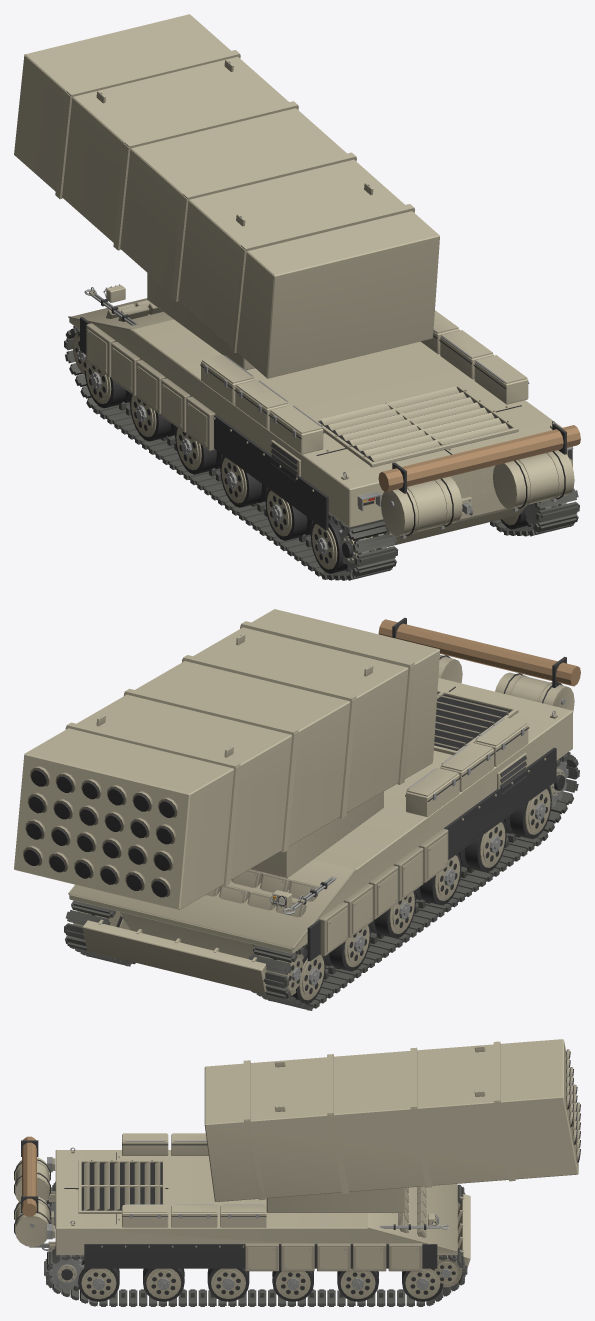
The model's file is rus_mlrs_tos.glb.
The picture shows the model from 3 angles, top to bottom: view 1: azimuth 30°, elevation 25°; view 2: azimuth 150°, elevation 25°; view 3: azimuth 270°, elevation 25°; orthographic projection. The views are drawn at different scales.
Parts seen in each view (by area): view 1: barrel, body, turret; view 2: barrel, body, turret; view 3: body, barrel, turret.
Part boxes in pixels (x1,y1,x2,y2): barrel: (14, 14, 439, 378); body: (64, 284, 580, 580); turret: (147, 273, 254, 370); barrel: (14, 609, 439, 909); body: (64, 617, 580, 1010); turret: (250, 791, 383, 878); body: (14, 1133, 470, 1306); barrel: (204, 1039, 580, 1201); turret: (266, 1187, 405, 1212).
Size of the model in its own units: 3.46 by 3.82 by 9.8.
